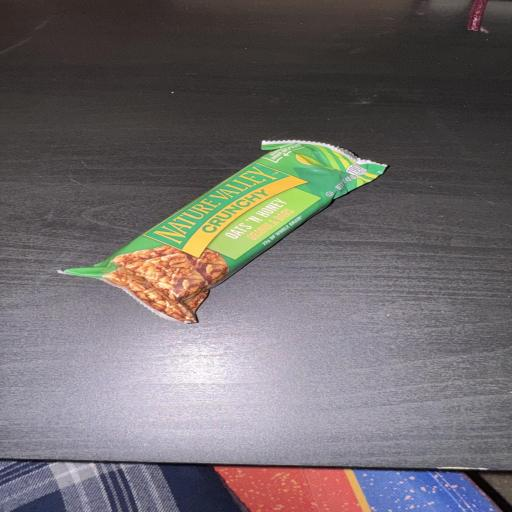granola: (66, 141, 386, 322)
